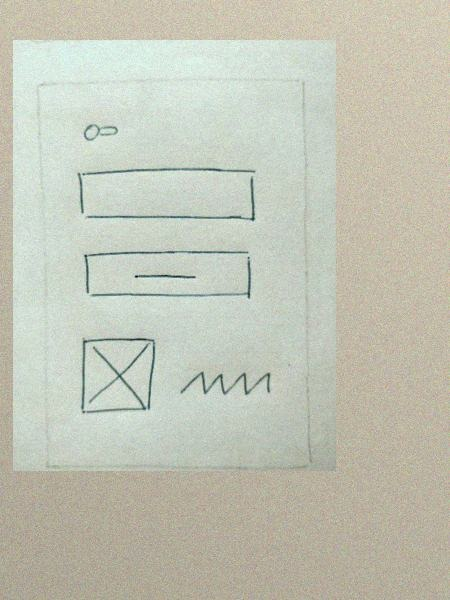button: (74, 246, 261, 305)
image: (70, 330, 166, 421)
switch: (75, 117, 124, 146)
text: (177, 360, 283, 407)
text_input: (73, 164, 264, 228)
